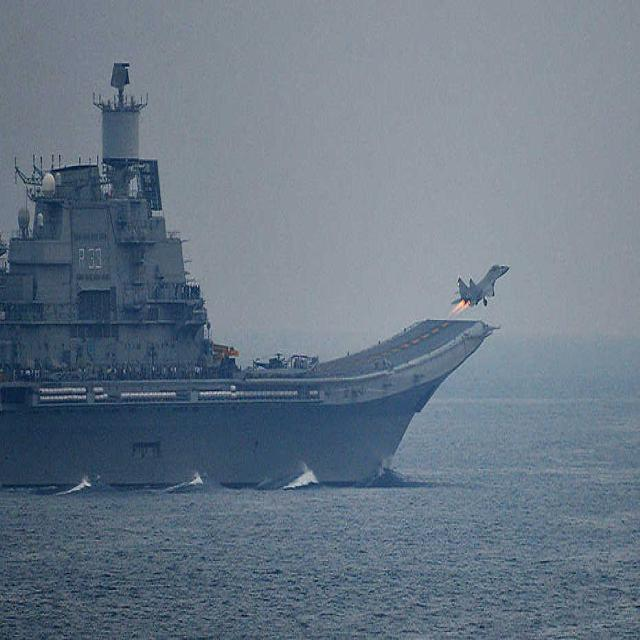navalvessels: (0, 55, 490, 492)
